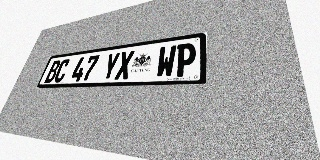4: (70, 56, 89, 82)
7: (80, 55, 100, 81)
B: (44, 60, 62, 83)
C: (53, 59, 71, 83)
P: (174, 42, 196, 77)
W: (155, 45, 177, 78)
X: (114, 50, 135, 80)
Y: (101, 52, 121, 80)
